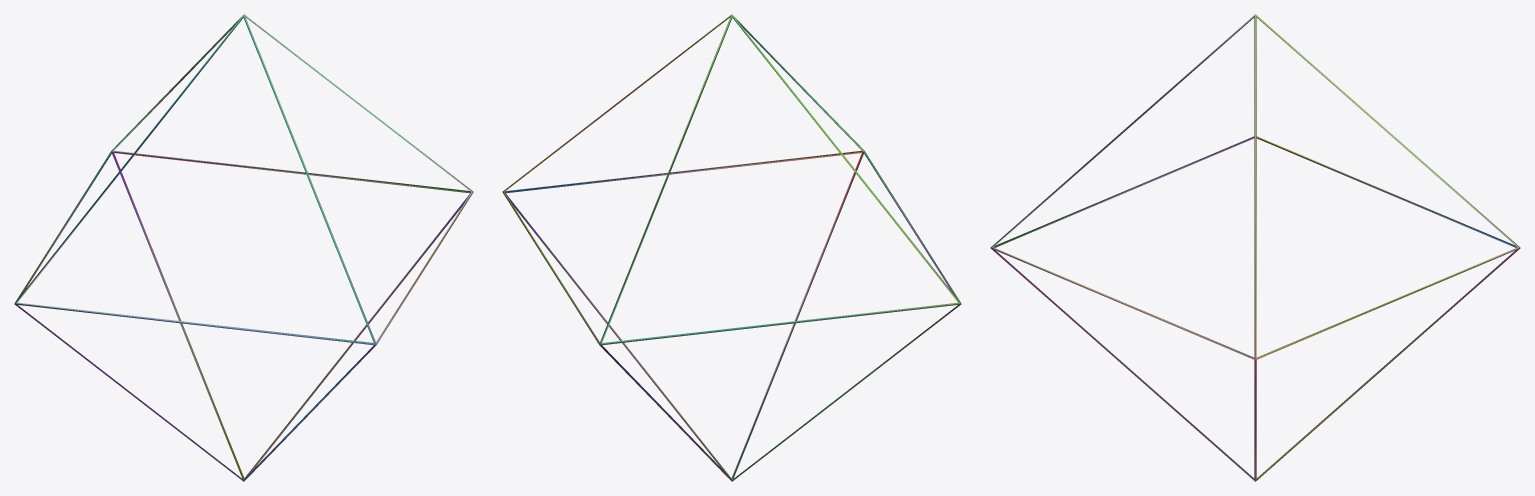
Rendered from zeometry-wireframes-wire-octahedron_v8.glb.
3 views of the same model, side by side, from view 1: azimuth 30°, elevation 25°; view 2: azimuth 150°, elevation 25°; view 3: azimuth 270°, elevation 25° (orthographic).
Parts seen in each view (by area): view 1: Wire Octahedron_v8; view 2: Wire Octahedron_v8; view 3: Wire Octahedron_v8.
Part boxes in pixels (bbox=[...]): Wire Octahedron_v8: bbox=[14, 14, 473, 481]; Wire Octahedron_v8: bbox=[502, 14, 961, 481]; Wire Octahedron_v8: bbox=[990, 14, 1520, 481].
Size of the model in its own units: 0.5 by 0.4864 by 0.5.
